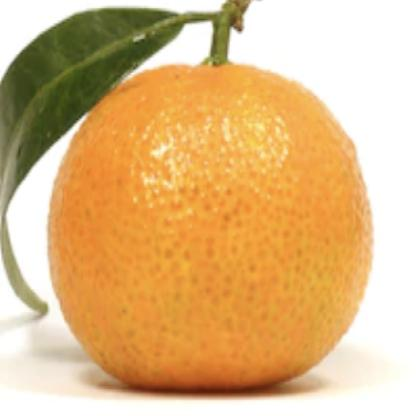fresh: (44, 57, 374, 398)
